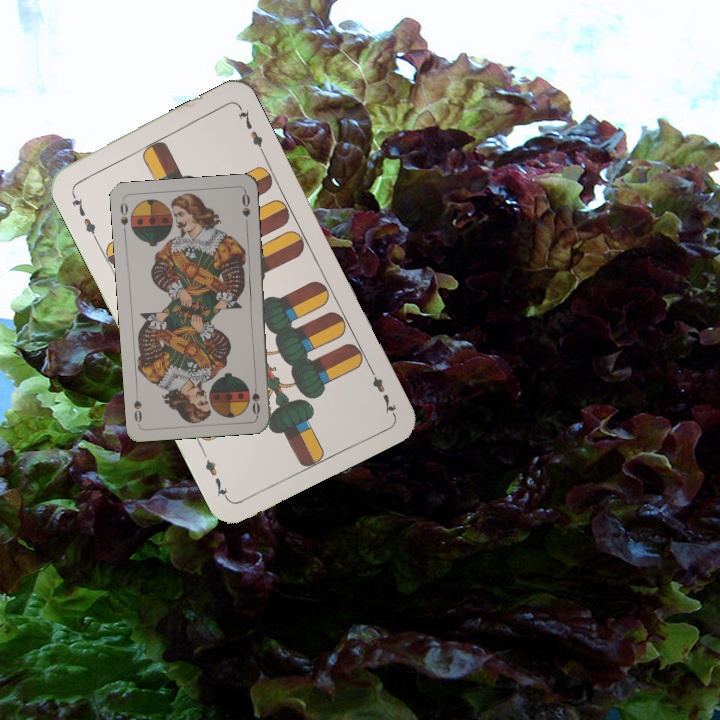E7: (364, 362, 399, 417), (66, 187, 100, 242)
SO: (248, 377, 263, 417), (116, 198, 131, 238)
